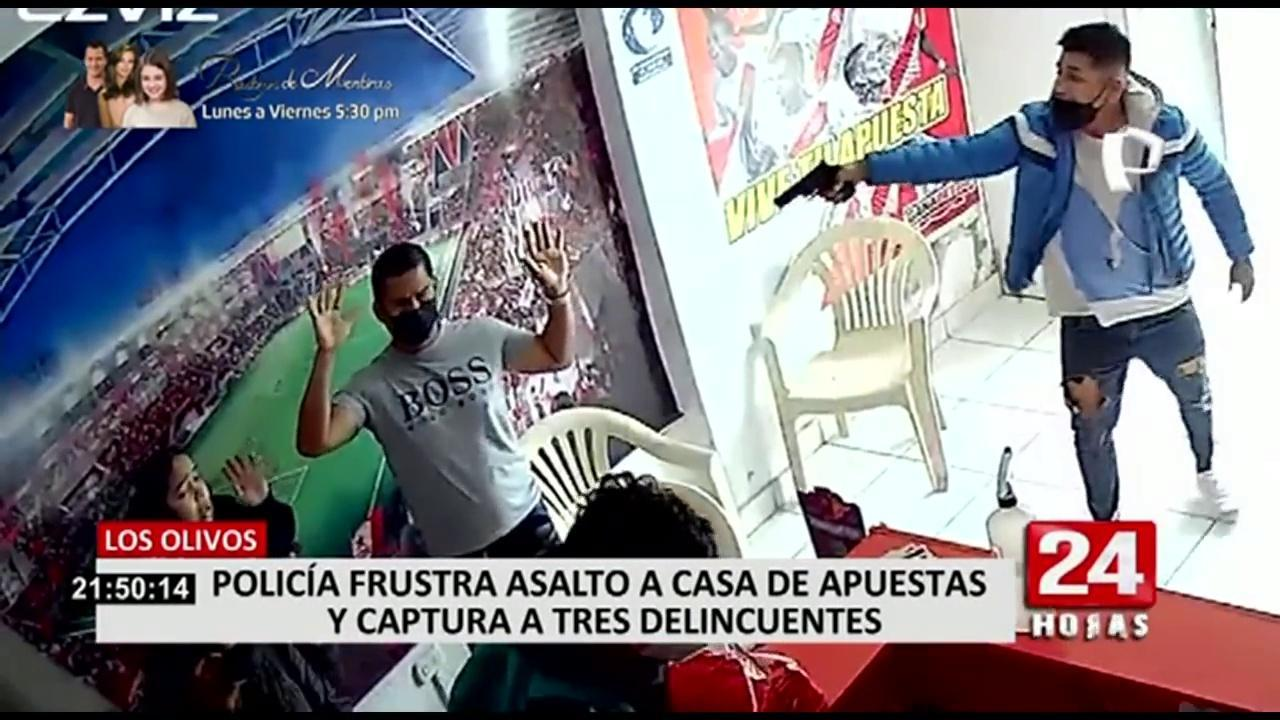Guns: (752, 130, 868, 245)
